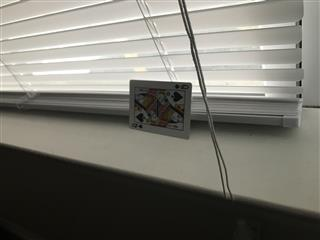QueenOfSpades: (128, 78, 192, 140)
